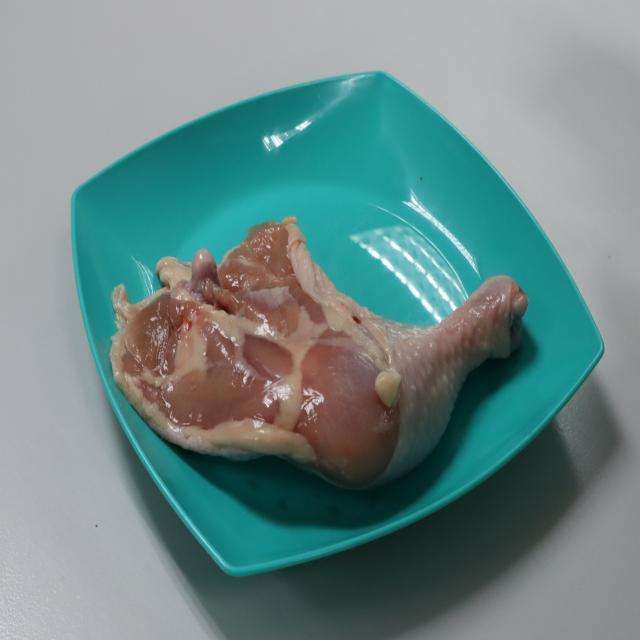quater: (121, 218, 532, 494)
